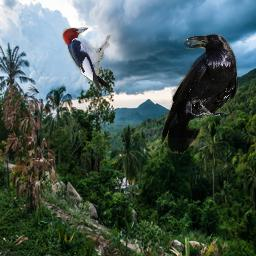Crow: (161, 34, 239, 154)
Woodpecker: (61, 25, 113, 93)
